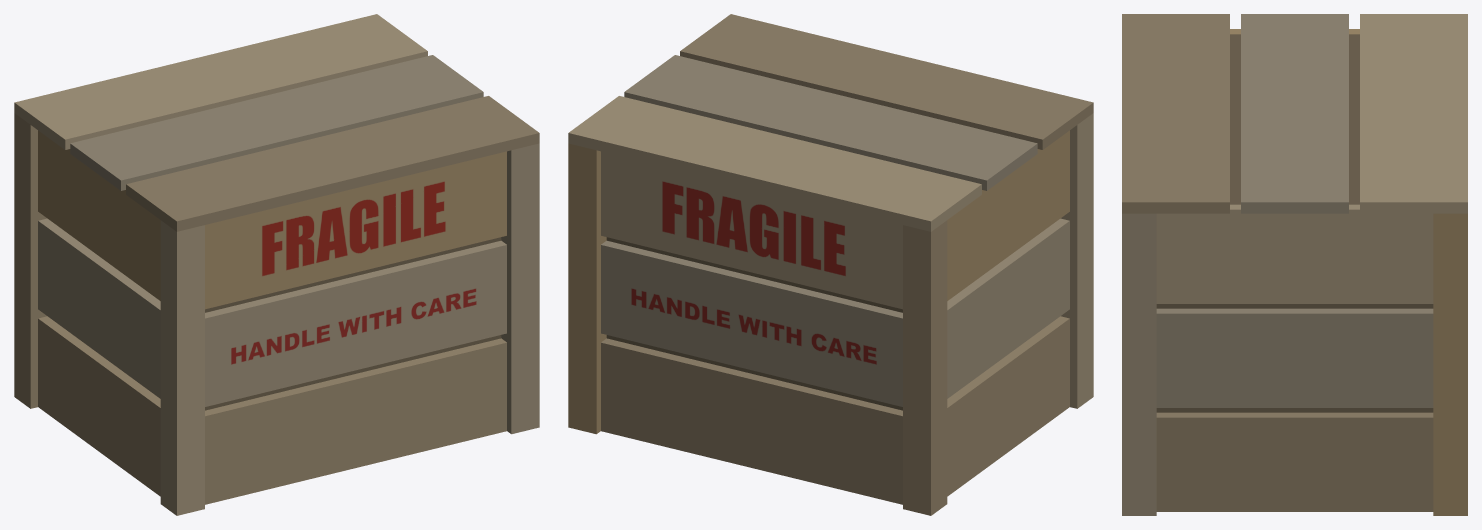
The model's file is small-crate-fragile.glb.
3 renders of one model, left to right at view 1: azimuth 30°, elevation 25°; view 2: azimuth 150°, elevation 25°; view 3: azimuth 270°, elevation 25°, orthographic. The views are drawn at different scales.
Parts seen in each view (by area): view 1: small-crate-fragile; view 2: small-crate-fragile; view 3: small-crate-fragile.
Boxes of the visible parts, left/top/right/bottom form: small-crate-fragile: left=14, top=14, right=539, bottom=515; small-crate-fragile: left=568, top=14, right=1093, bottom=515; small-crate-fragile: left=1122, top=14, right=1467, bottom=515.
Size of the model in its own units: 0.58 by 0.45 by 0.45.
Materials: 1 (1 with a texture image).
